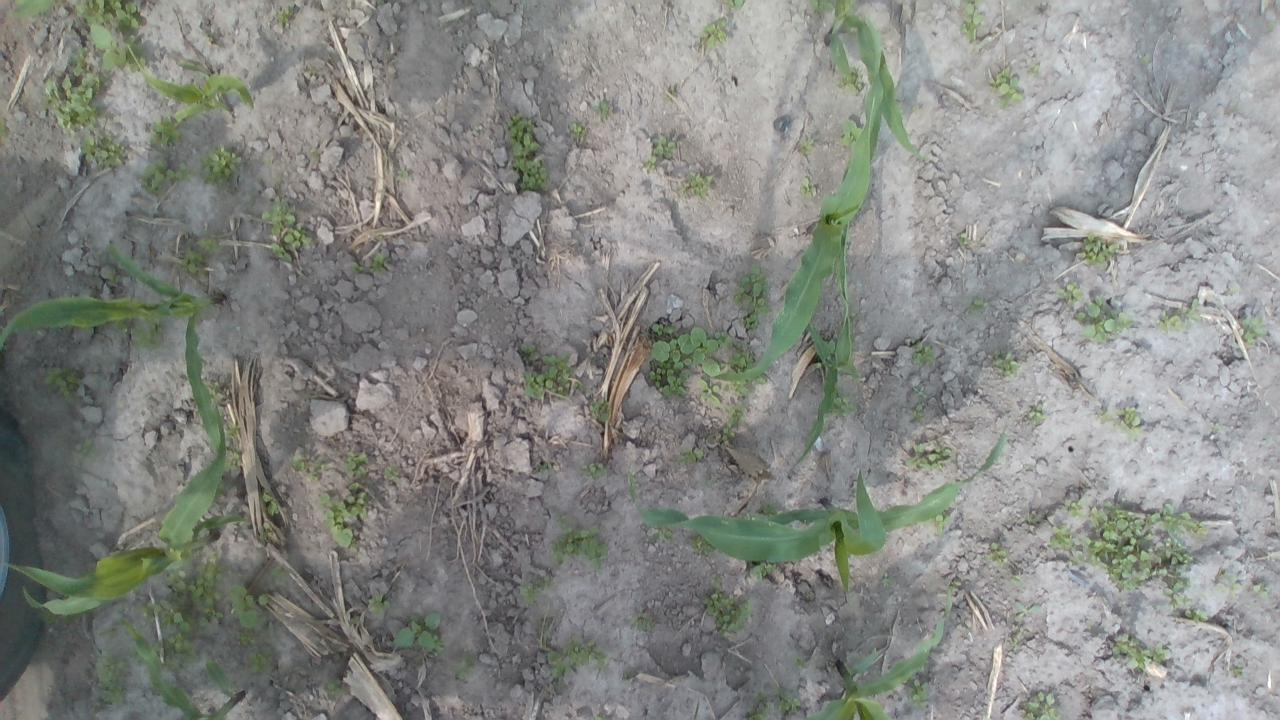Maize: (0, 316, 249, 616), (626, 422, 1009, 586), (719, 23, 886, 388), (0, 244, 226, 356), (812, 0, 936, 161), (805, 594, 957, 720), (798, 224, 858, 474), (112, 618, 246, 720), (124, 42, 252, 122)
Weeds: (1083, 500, 1169, 593), (42, 48, 104, 136), (648, 324, 722, 394), (547, 514, 610, 572), (506, 110, 549, 190), (189, 550, 228, 628), (522, 352, 584, 400), (90, 23, 148, 74), (132, 592, 196, 636), (1074, 295, 1132, 342), (734, 261, 770, 331), (392, 611, 449, 655), (724, 339, 766, 397), (702, 590, 754, 636), (95, 651, 132, 705), (74, 0, 140, 30), (198, 144, 240, 188), (154, 633, 201, 671), (1158, 503, 1209, 538), (560, 634, 611, 669), (904, 439, 954, 474), (1155, 298, 1204, 332), (230, 584, 266, 630), (1110, 632, 1152, 671), (1074, 231, 1119, 267), (326, 502, 357, 554), (80, 134, 124, 170), (41, 366, 85, 400), (987, 67, 1022, 107), (132, 316, 168, 352), (138, 156, 172, 194), (1160, 570, 1192, 610), (1019, 691, 1059, 720), (957, 0, 984, 42), (1211, 570, 1246, 602), (719, 404, 748, 442), (148, 114, 182, 146), (262, 202, 294, 235), (291, 454, 326, 484), (676, 171, 713, 199), (902, 674, 930, 710), (1116, 406, 1143, 443), (520, 574, 552, 604), (698, 18, 729, 47), (345, 482, 369, 518), (1164, 536, 1193, 565), (744, 692, 774, 720), (1238, 314, 1266, 344), (544, 652, 575, 679), (70, 439, 100, 466), (911, 338, 938, 368), (838, 120, 863, 152), (12, 0, 56, 18), (984, 540, 1010, 568), (453, 652, 479, 680), (994, 348, 1020, 376), (1066, 538, 1090, 568), (924, 510, 954, 534), (282, 226, 312, 250), (1046, 522, 1072, 549), (342, 450, 368, 477), (178, 246, 205, 272), (776, 686, 801, 714), (694, 380, 720, 406), (1055, 280, 1083, 304), (651, 135, 676, 161), (839, 66, 864, 92), (1008, 624, 1032, 651), (578, 460, 610, 480), (830, 391, 854, 417), (628, 610, 653, 634), (678, 444, 704, 467), (905, 402, 926, 430), (368, 592, 392, 616), (588, 395, 610, 421), (961, 296, 988, 317), (248, 650, 273, 672), (271, 240, 296, 262), (748, 558, 774, 579), (688, 536, 716, 555), (1150, 642, 1172, 666), (165, 566, 186, 591), (1011, 602, 1040, 620), (1184, 604, 1210, 624), (202, 378, 223, 402), (820, 338, 838, 366), (369, 253, 392, 274), (326, 676, 346, 700), (1026, 402, 1046, 426), (222, 421, 240, 447), (198, 238, 224, 256), (1250, 580, 1273, 600), (650, 526, 674, 545), (262, 490, 280, 515), (1063, 495, 1084, 516), (594, 99, 614, 121), (517, 342, 539, 362), (810, 0, 834, 17), (105, 266, 122, 290), (110, 316, 130, 336), (798, 176, 816, 198), (234, 630, 258, 646), (222, 448, 242, 467), (712, 330, 732, 348), (277, 6, 295, 25), (210, 483, 230, 500), (910, 382, 930, 399), (130, 648, 147, 667), (38, 608, 58, 624), (383, 466, 400, 483), (571, 122, 588, 138), (1094, 408, 1112, 423), (260, 523, 274, 542), (798, 138, 814, 154), (270, 565, 288, 579), (175, 162, 189, 180), (1228, 283, 1246, 297), (723, 0, 748, 10), (710, 572, 724, 589), (642, 156, 656, 173), (663, 86, 677, 102), (762, 500, 778, 514), (318, 492, 332, 507), (98, 629, 117, 640), (534, 463, 555, 472), (1009, 573, 1023, 586), (796, 656, 809, 669), (0, 116, 7, 140), (1210, 422, 1224, 434), (1139, 54, 1151, 68), (1024, 514, 1040, 524), (1030, 63, 1040, 79), (1232, 666, 1244, 679), (958, 232, 971, 244), (622, 670, 634, 683), (352, 262, 364, 274), (396, 168, 410, 178), (882, 573, 891, 588), (949, 578, 962, 588), (742, 514, 756, 522), (1268, 21, 1278, 32), (352, 616, 362, 626), (590, 714, 606, 720), (265, 158, 276, 166)
